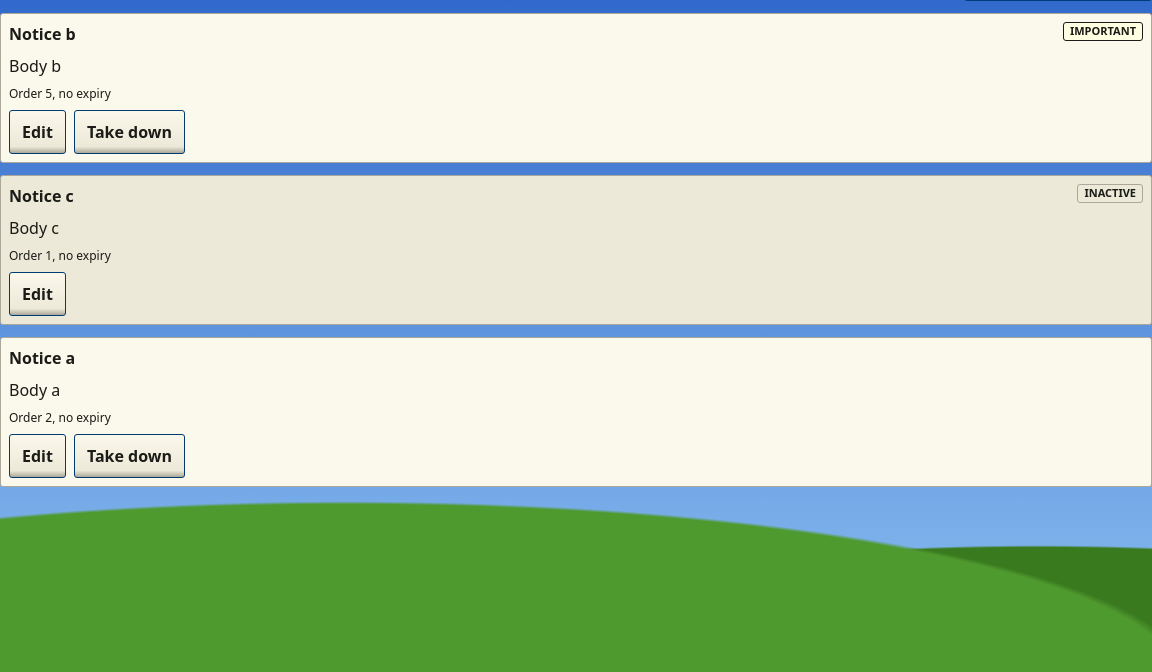
Test case: Admin: Announcements › keeps the form open with the reason when a save is refused
Click the button "Edit" below "Body a" at (37, 456), box x1=9 y1=434 x2=66 y2=478
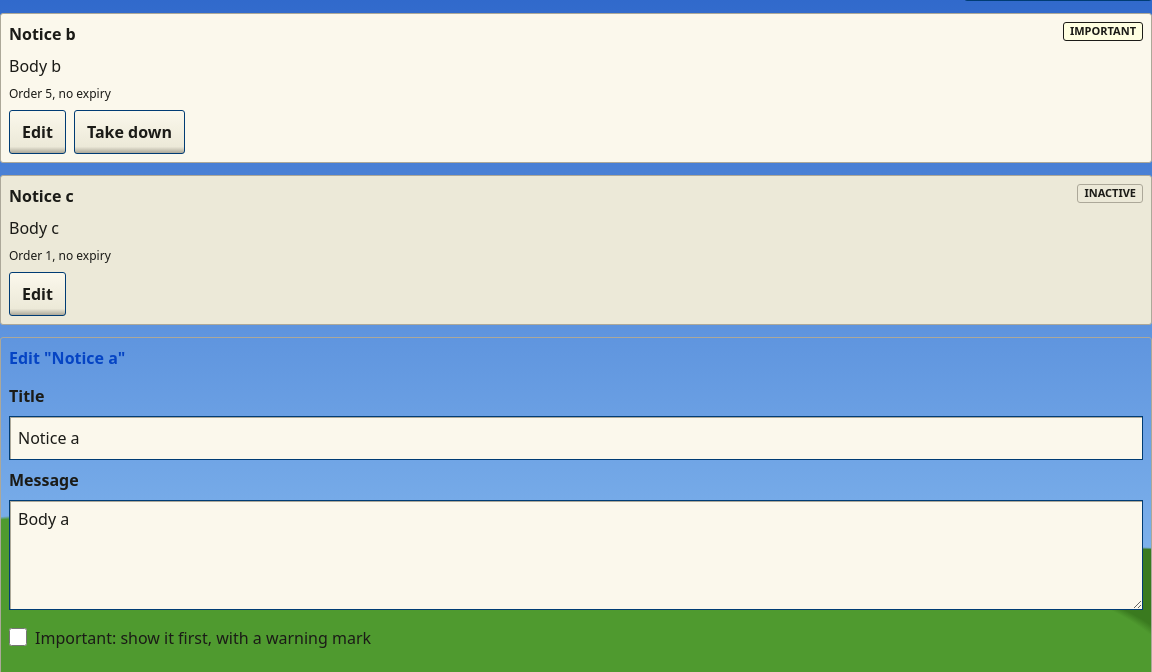
Replace the text in the text box labelled "Message" with "New body" at (576, 555), box x1=9 y1=500 x2=1143 y2=610
(page scrolled)
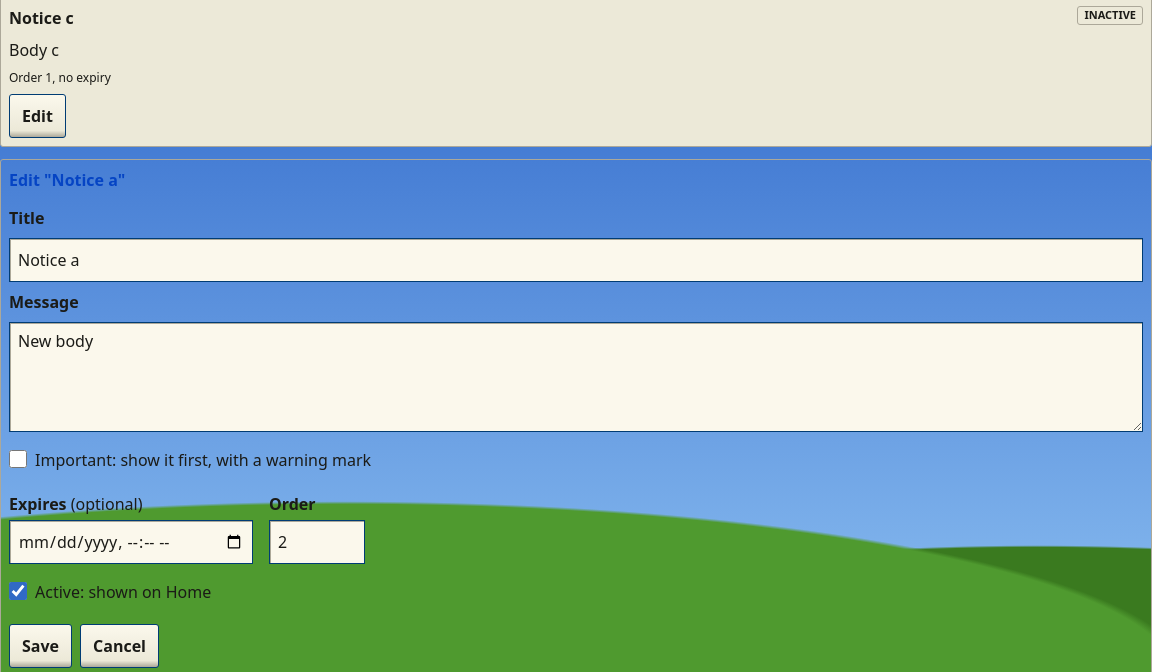
Click the button "Save" at (40, 646), box x1=9 y1=624 x2=72 y2=668
(page scrolled)
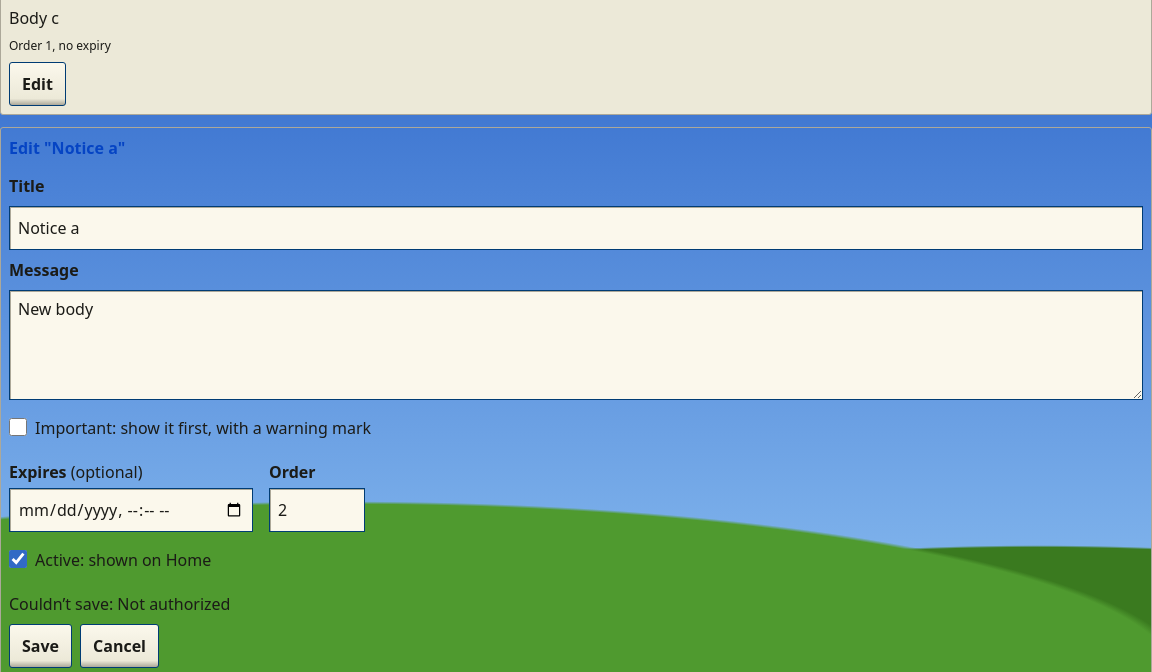
expect the button "Save" is enabled: met, box x1=9 y1=624 x2=72 y2=668
expect the message reads "Couldn’t save: Not authorized": met, box x1=9 y1=593 x2=230 y2=615
